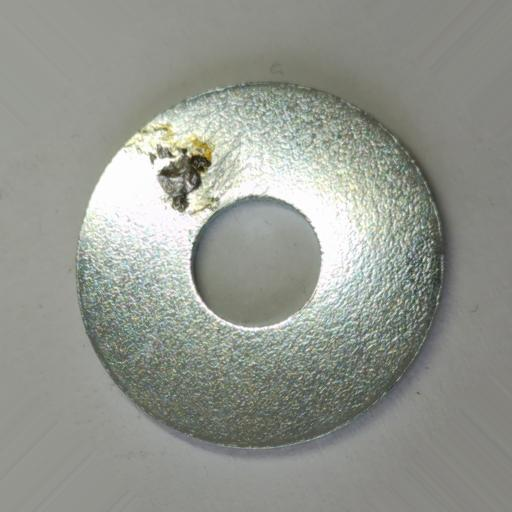excess_material: (148, 144, 211, 212)
